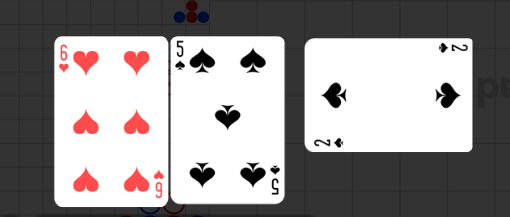2S: (436, 42, 469, 55)
5S: (269, 163, 282, 196)
6H: (58, 43, 71, 75)
